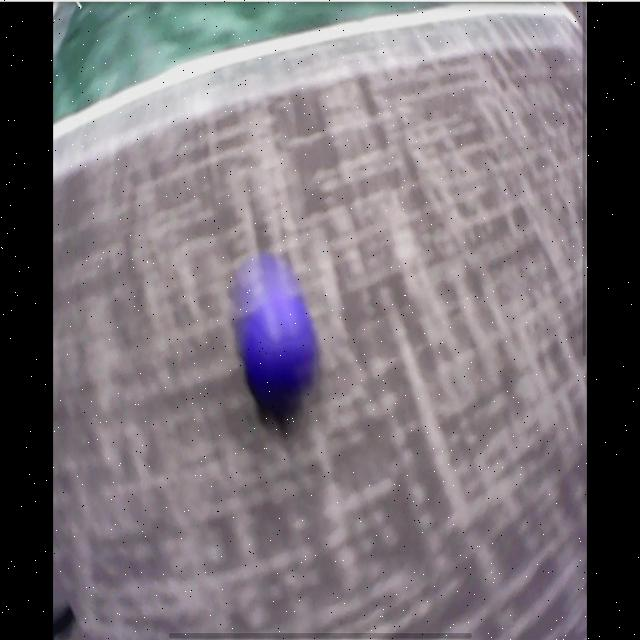ball: (244, 302, 317, 401)
